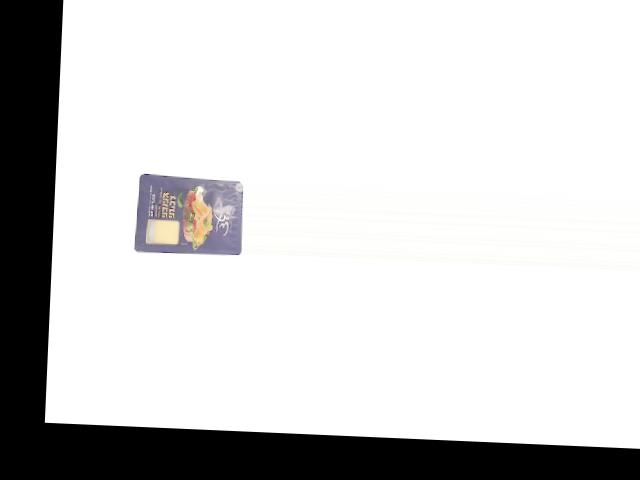cheese: (134, 171, 245, 256)
